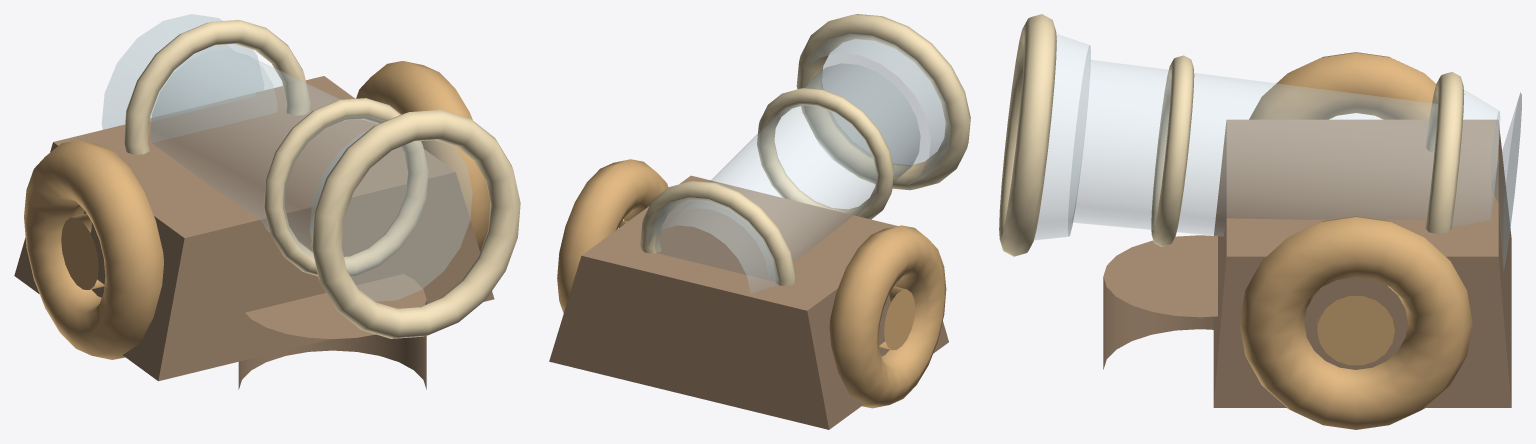
Rendered from cannon.glb.
The picture shows the model from 3 angles, left to right: view 1: azimuth 30°, elevation 25°; view 2: azimuth 150°, elevation 25°; view 3: azimuth 270°, elevation 25°; orthographic projection. The views are drawn at different scales.
Visible parts, largest first — view 1: carriage, barrel, barrel_trim, wheel_l, wheel_r; view 2: carriage, barrel, barrel_trim, wheel_l, wheel_r; view 3: barrel, carriage, wheel_r, barrel_trim, wheel_l.
Part boxes in pixels (x1=…): carriage: x1=14, y1=76, x2=494, y2=389; barrel: x1=101, y1=14, x2=472, y2=301; barrel_trim: x1=123, y1=20, x2=520, y2=338; wheel_l: x1=24, y1=140, x2=163, y2=359; wheel_r: x1=356, y1=61, x2=490, y2=251; carriage: x1=549, y1=175, x2=948, y2=429; barrel: x1=646, y1=34, x2=950, y2=293; barrel_trim: x1=640, y1=14, x2=970, y2=286; wheel_l: x1=829, y1=225, x2=946, y2=408; wheel_r: x1=557, y1=159, x2=668, y2=312; barrel: x1=1034, y1=34, x2=1521, y2=270; carriage: x1=1103, y1=119, x2=1511, y2=407; wheel_r: x1=1239, y1=216, x2=1472, y2=429; barrel_trim: x1=999, y1=14, x2=1464, y2=256; wheel_l: x1=1249, y1=52, x2=1435, y2=119.
Size of the model in its own units: 1.4 by 1.18 by 1.61.
